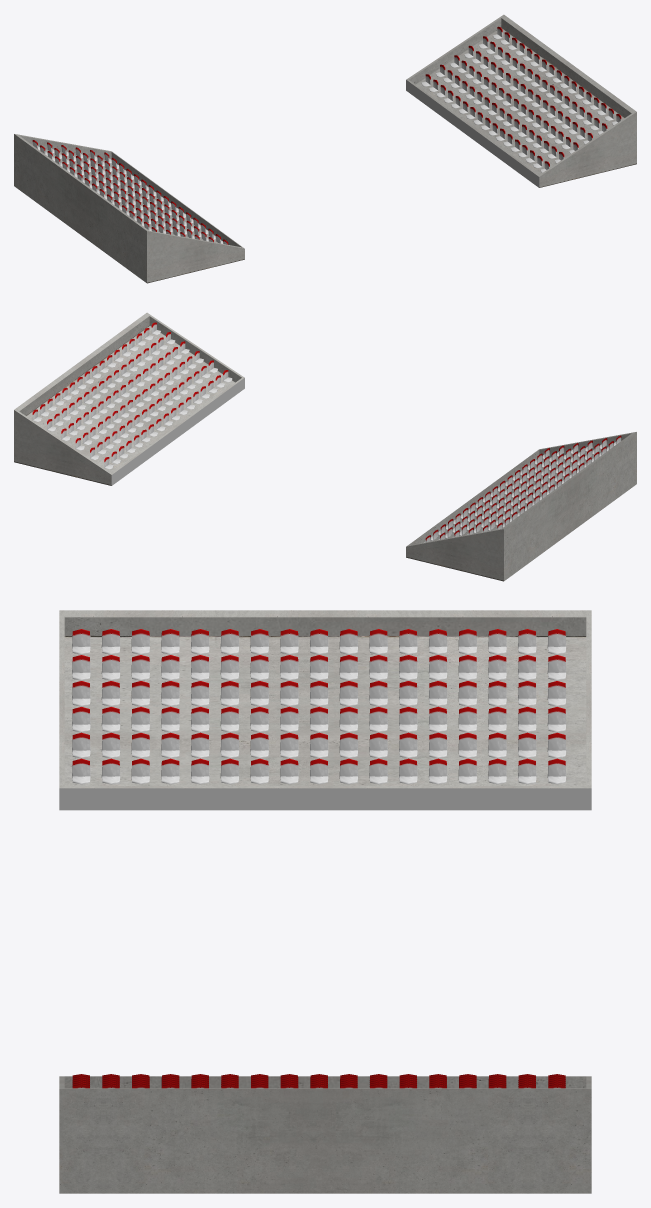
File: seat.fbx
The picture shows the model from 3 angles, top to bottom: view 1: azimuth 30°, elevation 25°; view 2: azimuth 150°, elevation 25°; view 3: azimuth 270°, elevation 25°; orthographic projection. The views are drawn at different scales.
Parts seen in each view (by area): view 1: seat2; view 2: seat2; view 3: seat2.
Boxes of the visible parts, x1=… form: seat2: x1=14, y1=14, x2=636, y2=283; seat2: x1=14, y1=312, x2=636, y2=581; seat2: x1=59, y1=610, x2=591, y2=1193.
Size of the model in its own units: 3919 by 402 by 1844.
